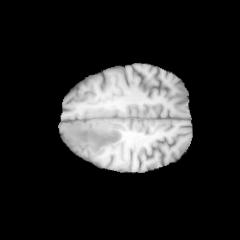glioma: (68, 120, 123, 149)
